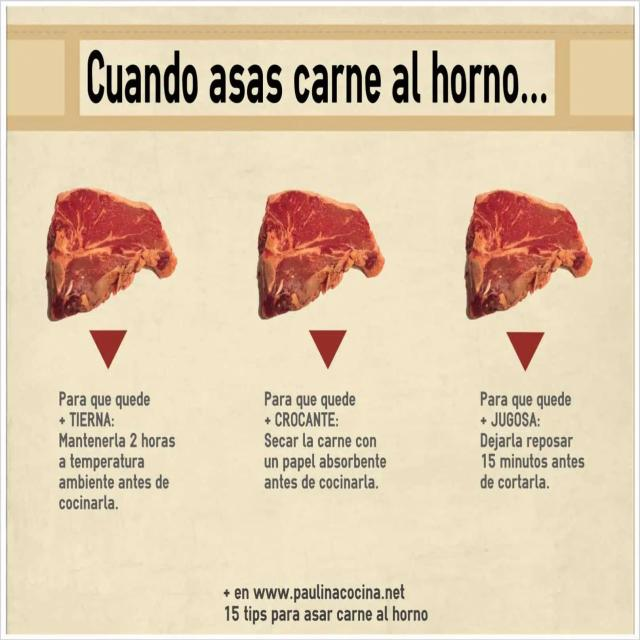carne de res: (246, 182, 404, 330), (36, 176, 182, 332), (449, 184, 592, 327)
